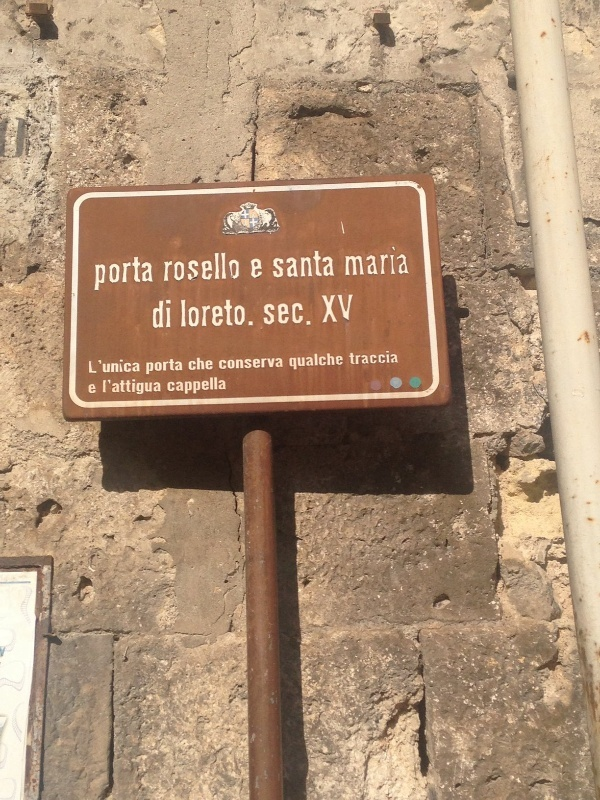text: (97, 256, 112, 291), (113, 256, 128, 291), (129, 256, 144, 291), (273, 248, 288, 279), (289, 248, 304, 279), (305, 248, 320, 279), (353, 245, 368, 276), (369, 245, 384, 276), (385, 245, 400, 276), (321, 294, 336, 324), (337, 294, 352, 324), (177, 253, 192, 282), (193, 253, 208, 282), (209, 253, 224, 282), (193, 300, 208, 329), (209, 300, 224, 329), (225, 300, 240, 329), (321, 248, 335, 279), (225, 253, 239, 282), (241, 300, 254, 329), (273, 302, 288, 327), (289, 302, 304, 327), (164, 253, 176, 282), (180, 300, 192, 329), (161, 299, 172, 330), (289, 351, 304, 371), (305, 351, 320, 371), (321, 351, 336, 371), (145, 378, 161, 396), (145, 256, 153, 291), (401, 245, 410, 276), (113, 378, 128, 396), (129, 378, 144, 396), (177, 377, 192, 395), (193, 377, 208, 395), (209, 377, 224, 395), (161, 358, 176, 375), (152, 299, 160, 330), (146, 358, 160, 375), (263, 302, 272, 327), (97, 359, 112, 374), (113, 359, 128, 374), (353, 351, 368, 365), (369, 351, 384, 365), (385, 351, 399, 365), (193, 358, 208, 371), (346, 245, 352, 276), (225, 358, 240, 370), (241, 358, 256, 370), (257, 358, 272, 370), (305, 302, 312, 327), (129, 359, 140, 374), (103, 378, 112, 396), (168, 377, 176, 395), (337, 351, 344, 371), (257, 259, 263, 279), (273, 358, 283, 370), (89, 359, 96, 374), (177, 358, 183, 375), (251, 259, 256, 279), (89, 384, 96, 394), (219, 358, 224, 370), (209, 358, 213, 371), (189, 358, 192, 371), (353, 294, 354, 324), (350, 351, 352, 365), (225, 377, 226, 395)
